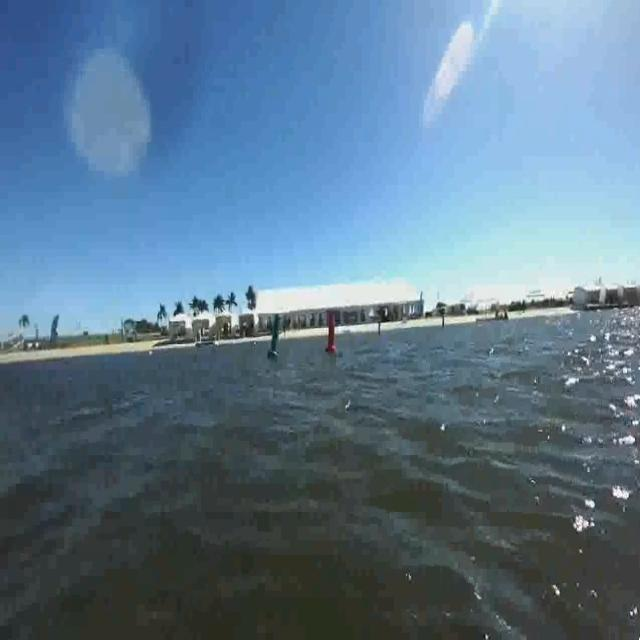green-column-buoy: (268, 310, 284, 362)
red-column-buoy: (327, 312, 341, 355)
